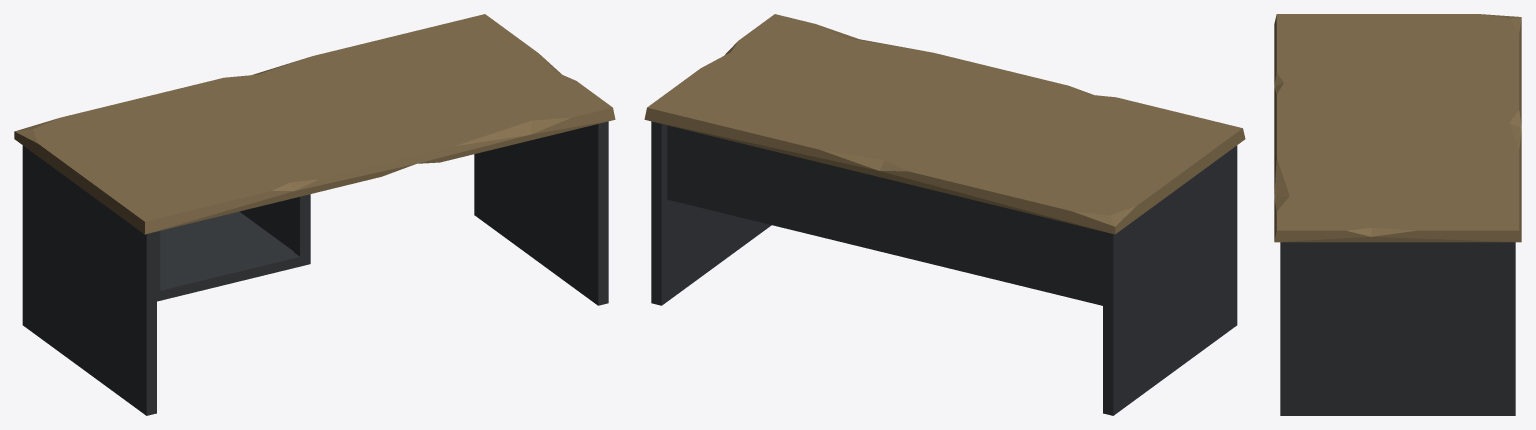
Rendered from SM_Prop_Desk_01.fbx.
3 views of the same model, side by side, from view 1: azimuth 30°, elevation 25°; view 2: azimuth 150°, elevation 25°; view 3: azimuth 270°, elevation 25° (orthographic). The views are drawn at different scales.
Parts seen in each view (by area): view 1: SM_Prop_Desk_01; view 2: SM_Prop_Desk_01; view 3: SM_Prop_Desk_01.
Part boxes in pixels (left/top/right/bottom): SM_Prop_Desk_01: left=14, top=14, right=615, bottom=415; SM_Prop_Desk_01: left=644, top=14, right=1245, bottom=415; SM_Prop_Desk_01: left=1274, top=14, right=1521, bottom=415.
Size of the model in its own units: 230 by 91.76 by 110.
